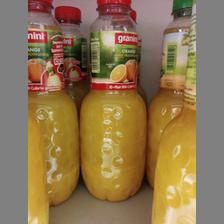Saft: (78, 0, 146, 200), (28, 0, 80, 204), (145, 0, 194, 184)
